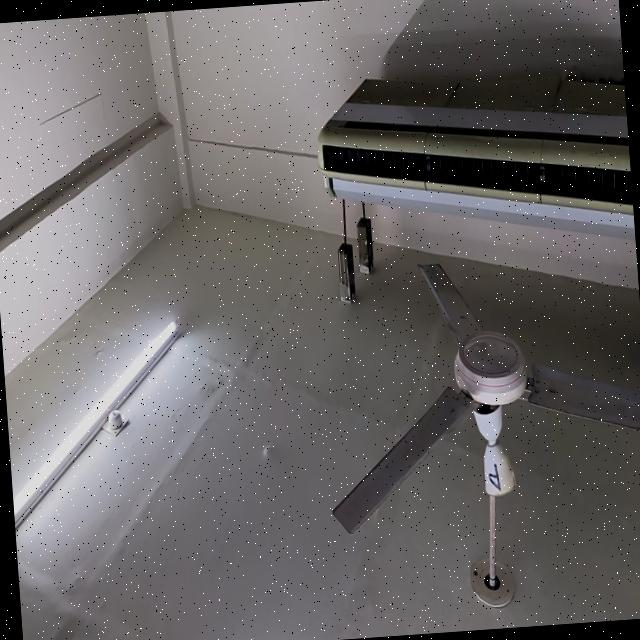Ac: (317, 80, 635, 238)
Light: (12, 319, 177, 531)
